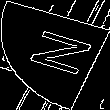N_E: (15, 27, 95, 83)
